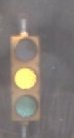Yellow: (9, 31, 41, 124)
